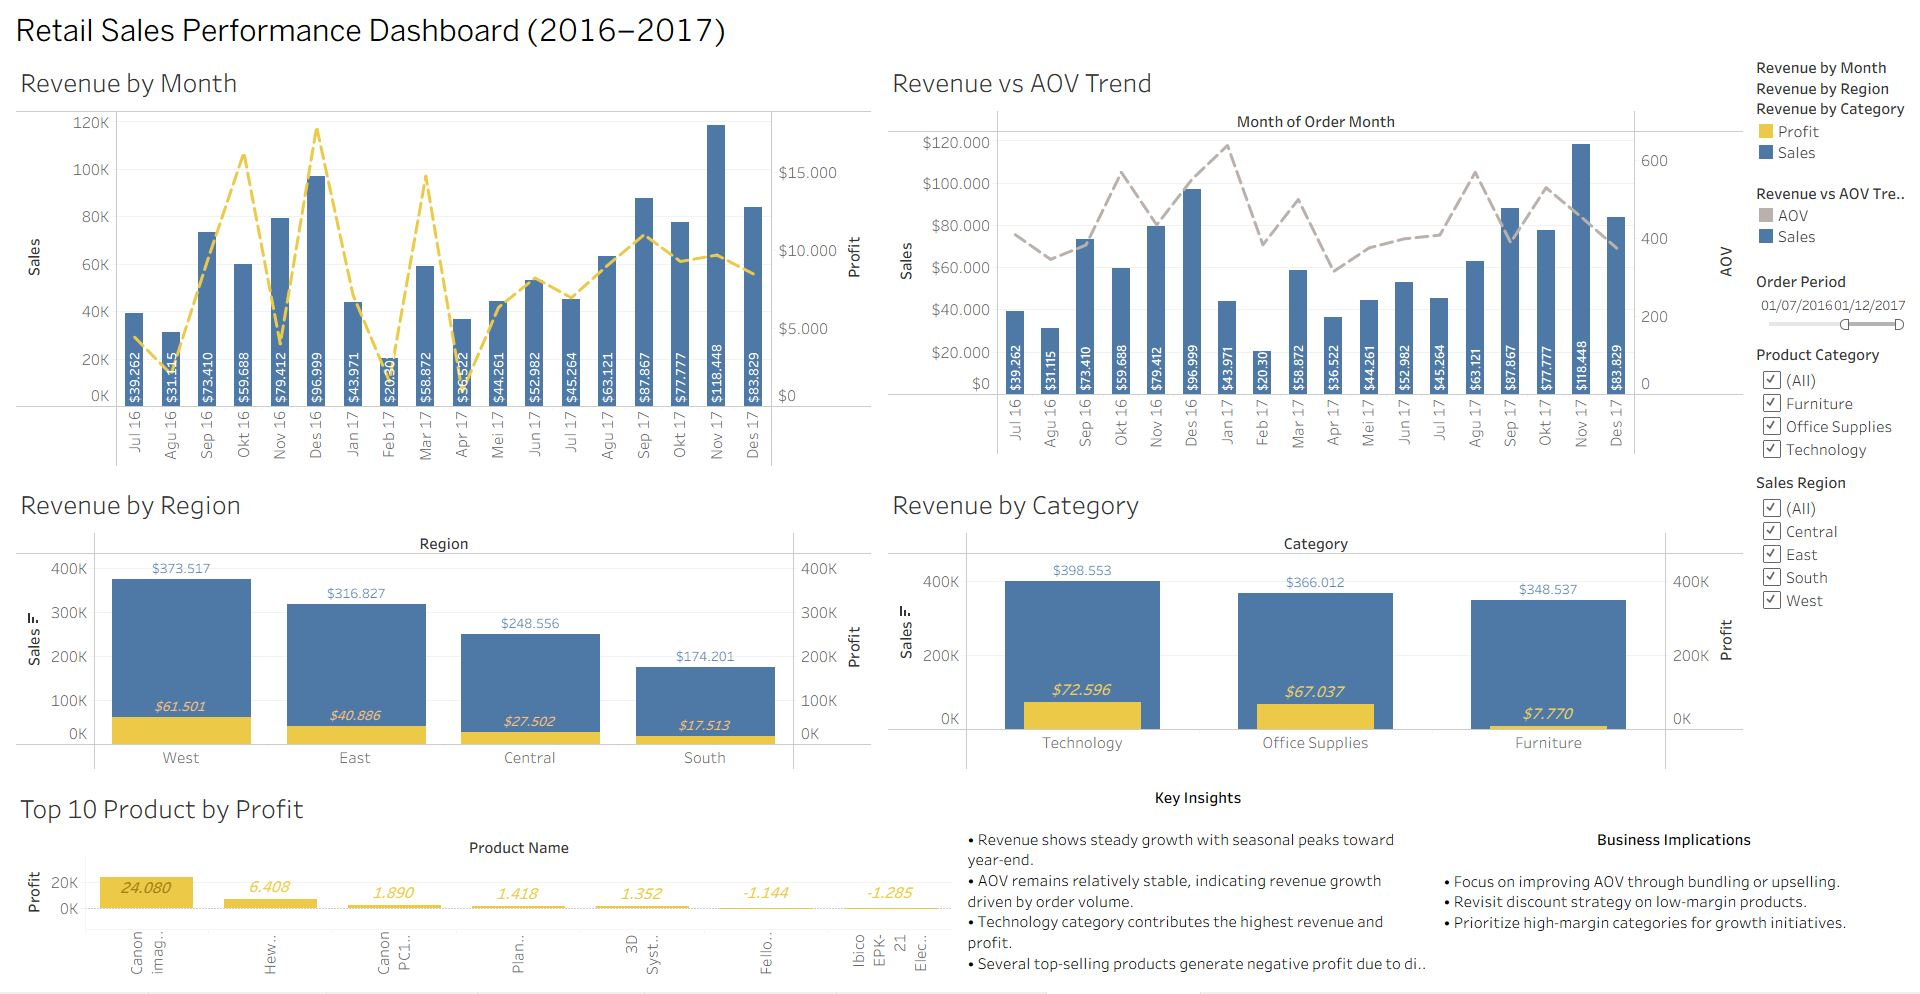

What the dashboard file says about the page in this screenshot:
{"tool":"tableau","page":{"name":"Sales Monitoring","canvas":[1000,1000],"units":"permille","ordinal":0},"visuals":[{"type":"title","box":[5,9.7,990,55.9]},{"type":"worksheet","title":"Revenue by Month","mark":"Automatic","rows":["Sales","Profit"],"cols":["Order Month"],"box":[5,65.6,445,419.3]},{"type":"worksheet","title":"Revenue vs AOV Trend","mark":"Bar","rows":["Sales","Calculation_1611353882759169"],"cols":["Order Month"],"box":[450,65.6,445.1,419.3]},{"type":"legend","title":"Revenue by Month","param":"[federated.0ifboge1sf9l7d1cncx6z1hodl97].[:Measure Names]","box":[895.1,65.6,99.9,153.1]},{"type":"legend","title":"Revenue vs AOV Trend","param":"[federated.0ifboge1sf9l7d1cncx6z1hodl97].[:Measure Names]","box":[895.1,218.7,99.9,106.9]},{"type":"filter","title":"Revenue by Month","param":"[federated.0ifboge1sf9l7d1cncx6z1hodl97].[none:Order Month:qk]","box":[895.1,325.6,99.9,88.7]},{"type":"filter","title":"Revenue by Month","param":"[federated.0ifboge1sf9l7d1cncx6z1hodl97].[none:Category:nk]","box":[895.1,414.3,99.9,155.5]},{"type":"worksheet","title":"Revenue by Region","mark":"Bar","rows":["Sales","Profit"],"cols":["Region"],"box":[5,484.9,445,301.4]},{"type":"worksheet","title":"Revenue by Category","mark":"Bar","rows":["Sales","Profit"],"cols":["Category"],"box":[450,484.9,445.1,301.4]},{"type":"filter","title":"Revenue by Month","param":"[federated.0ifboge1sf9l7d1cncx6z1hodl97].[none:Region:nk]","box":[895.1,569.9,99.9,183.5]},{"type":"worksheet","title":"Top 10 Product by Profit","mark":"Automatic","rows":["Profit"],"cols":["Product Name"],"box":[5,786.3,495,204]},{"type":"text","box":[500,786.3,247.5,204]},{"type":"text","box":[747.5,786.3,247.5,204]}]}

Visuals, with their boxes on the dashboard's canvas, which has no fixed pixel size, in thousandths of its width and height (x1, y1, x2, y2). These are canvas units, not pixel positions in the 1920x994 screenshot, which may show the page scaled, cropped or inside an application window:
title: {"left": 5, "top": 10, "right": 995, "bottom": 66}
"Revenue by Month" worksheet: {"left": 5, "top": 66, "right": 450, "bottom": 485}
"Revenue vs AOV Trend" worksheet (Bar marks): {"left": 450, "top": 66, "right": 895, "bottom": 485}
"Revenue by Month" legend: {"left": 895, "top": 66, "right": 995, "bottom": 219}
"Revenue vs AOV Trend" legend: {"left": 895, "top": 219, "right": 995, "bottom": 326}
"Revenue by Month" filter: {"left": 895, "top": 326, "right": 995, "bottom": 414}
"Revenue by Month" filter: {"left": 895, "top": 414, "right": 995, "bottom": 570}
"Revenue by Region" worksheet (Bar marks): {"left": 5, "top": 485, "right": 450, "bottom": 786}
"Revenue by Category" worksheet (Bar marks): {"left": 450, "top": 485, "right": 895, "bottom": 786}
"Revenue by Month" filter: {"left": 895, "top": 570, "right": 995, "bottom": 753}
"Top 10 Product by Profit" worksheet: {"left": 5, "top": 786, "right": 500, "bottom": 990}
text: {"left": 500, "top": 786, "right": 748, "bottom": 990}
text: {"left": 748, "top": 786, "right": 995, "bottom": 990}
